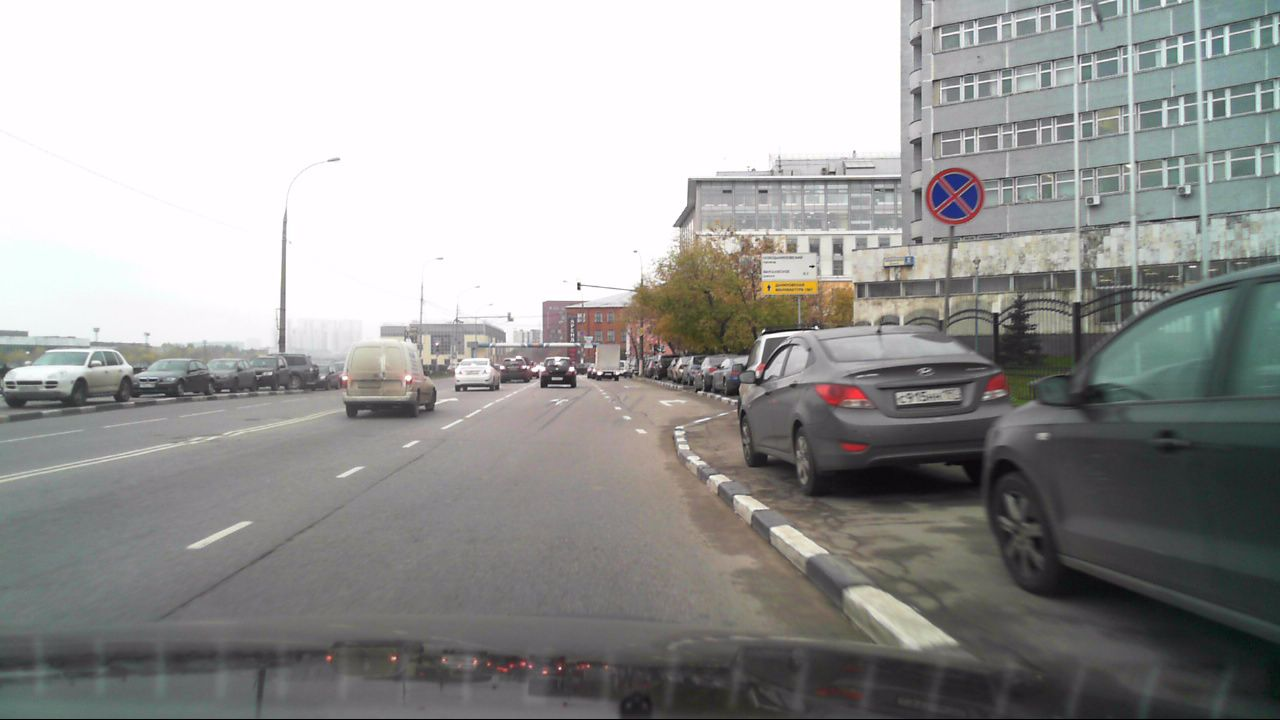No Parking: (926, 169, 980, 223)
